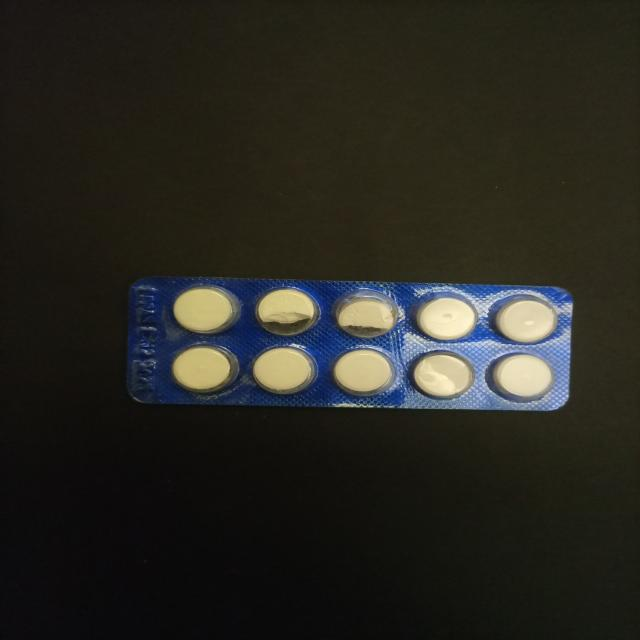defect: (252, 284, 322, 339), (331, 285, 400, 340)
